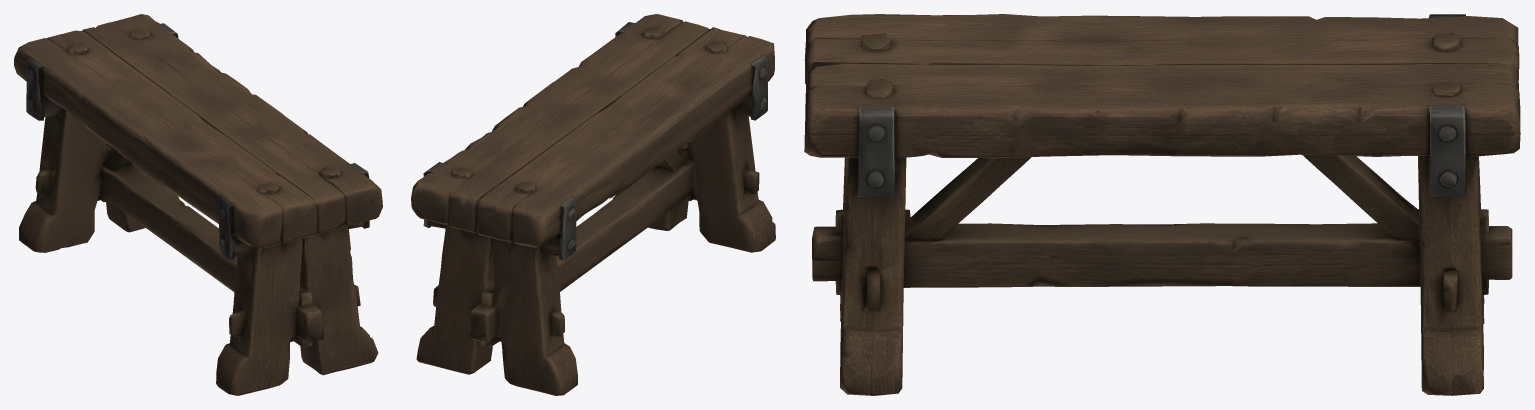
File: heavy-bench.glb
3 renders of one model, left to right at view 1: azimuth 30°, elevation 25°; view 2: azimuth 150°, elevation 25°; view 3: azimuth 270°, elevation 25°, orthographic. The views are drawn at different scales.
Visible parts, largest first — view 1: tripo_node_552fc1a5-f2d6-4430-9a64-f83026c364bc; view 2: tripo_node_552fc1a5-f2d6-4430-9a64-f83026c364bc; view 3: tripo_node_552fc1a5-f2d6-4430-9a64-f83026c364bc.
Boxes of the visible parts, left/top/right/bottom form: tripo_node_552fc1a5-f2d6-4430-9a64-f83026c364bc: left=14, top=14, right=382, bottom=395; tripo_node_552fc1a5-f2d6-4430-9a64-f83026c364bc: left=411, top=14, right=775, bottom=395; tripo_node_552fc1a5-f2d6-4430-9a64-f83026c364bc: left=804, top=14, right=1520, bottom=395.
Size of the model in its own units: 0.3596 by 0.442 by 1.
1 material, 1 textured.
